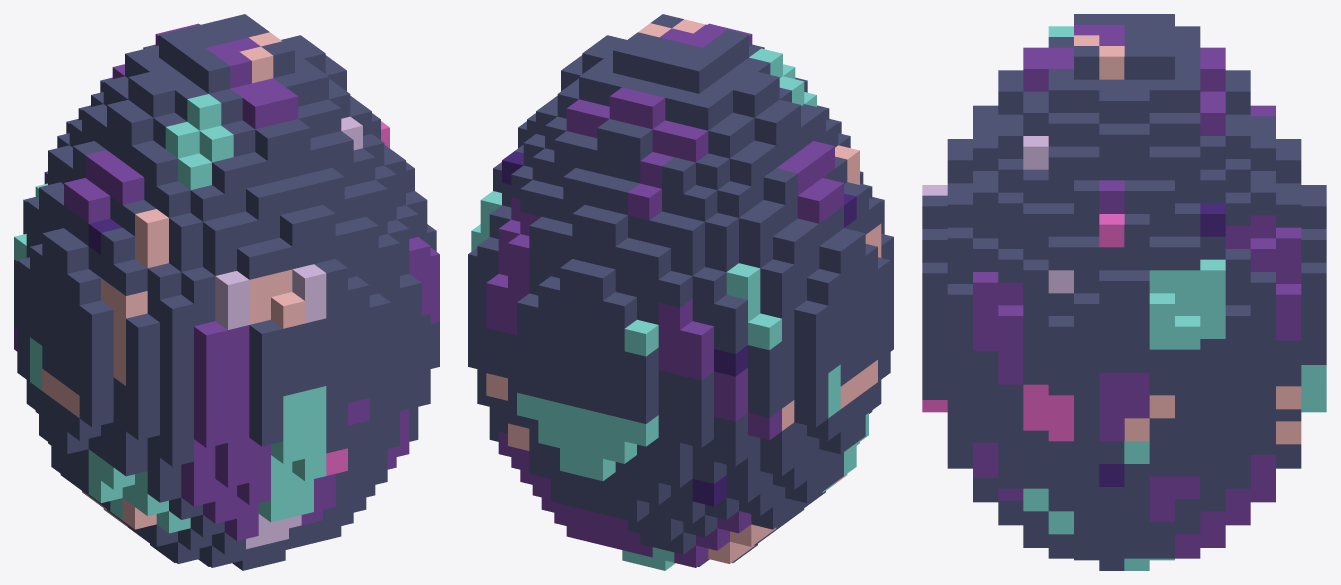
Rendered from Spawner_Egg.obj.
The picture shows the model from 3 angles, left to right: view 1: azimuth 30°, elevation 25°; view 2: azimuth 150°, elevation 25°; view 3: azimuth 270°, elevation 25°; orthographic projection.
Bounding box in the file's own units: 1.6 × 2.2 × 1.6.
1 material, 1 textured.
